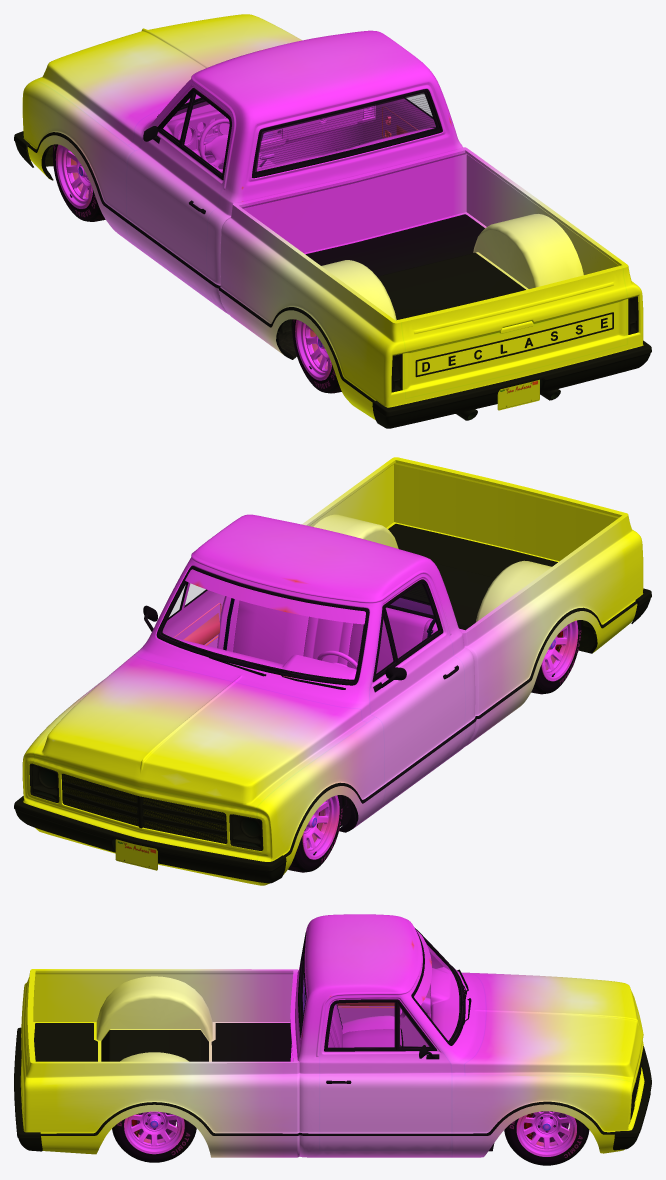
The model's file is yosemite.glb.
3 views of the same model, one above another, from view 1: azimuth 30°, elevation 25°; view 2: azimuth 150°, elevation 25°; view 3: azimuth 270°, elevation 25° (orthographic). The views are drawn at different scales.
Parts seen in each view (by area): view 1: bodyshell, boot, bonnet, misc_d, door_dside_f, chassis, windscreen_r, wing_lf, bumper_r, misc_z, window_lf, wheel_lf (+5 smaller); view 2: bodyshell, bonnet, chassis, boot, door_dside_f, wing_lf, misc_x, misc_d, misc_e, misc_c, misc_z, door_pside_f (+5 smaller); view 3: bodyshell, bonnet, door_pside_f, wing_rf, misc_d, chassis, wheel_rf, wheel_rr, window_rf, misc_z, door_dside_f, misc_u (+6 smaller).
Boxes of the visible parts, <box> form: bodyshell: <box>128,30,643,419</box>; boot: <box>398,266,627,398</box>; bonnet: <box>34,14,301,144</box>; misc_d: <box>304,212,528,319</box>; door_dside_f: <box>125,82,233,299</box>; chassis: <box>45,93,560,420</box>; windscreen_r: <box>254,92,439,174</box>; wing_lf: <box>22,80,135,246</box>; bumper_r: <box>372,340,651,428</box>; misc_z: <box>182,89,442,402</box>; window_lf: <box>183,94,228,173</box>; wheel_lf: <box>52,144,105,221</box>; bodyshell: <box>135,457,643,812</box>; bonnet: <box>33,654,366,810</box>; chassis: <box>33,581,597,847</box>; boot: <box>398,458,622,561</box>; door_dside_f: <box>369,575,466,806</box>; wing_lf: <box>256,717,385,885</box>; misc_x: <box>29,763,263,850</box>; misc_d: <box>386,522,558,630</box>; misc_e: <box>14,796,286,883</box>; misc_c: <box>33,756,261,885</box>; misc_z: <box>156,566,636,728</box>; door_pside_f: <box>143,582,224,647</box>; bodyshell: <box>20,914,486,1157</box>; bonnet: <box>464,972,643,1082</box>; door_pside_f: <box>319,995,451,1150</box>; wing_rf: <box>452,1076,633,1157</box>; misc_d: <box>33,1022,292,1061</box>; chassis: <box>299,937,632,1151</box>; wheel_rf: <box>504,1111,589,1165</box>; wheel_rr: <box>112,1111,196,1162</box>; window_rf: <box>328,1003,394,1047</box>; misc_z: <box>20,928,645,1135</box>; door_dside_f: <box>337,951,443,1046</box>; misc_u: <box>319,999,451,1135</box>.
Size of the model in its own units: 1.93 by 1.45 by 4.87.
Materials: 18 (12 with a texture image).
